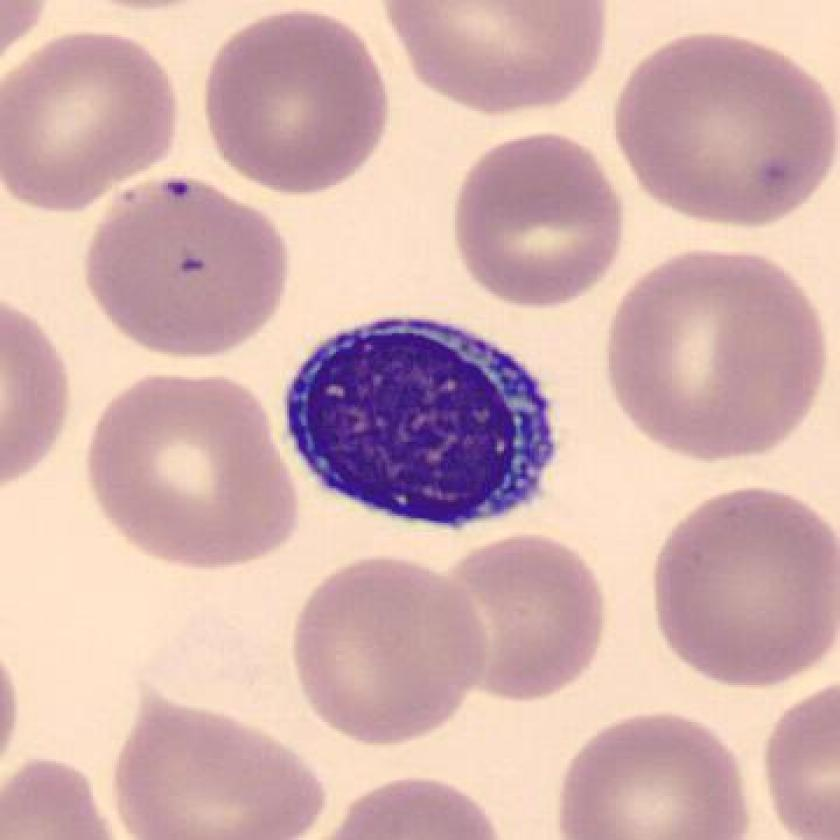lymphocyte: (272, 304, 570, 538)
